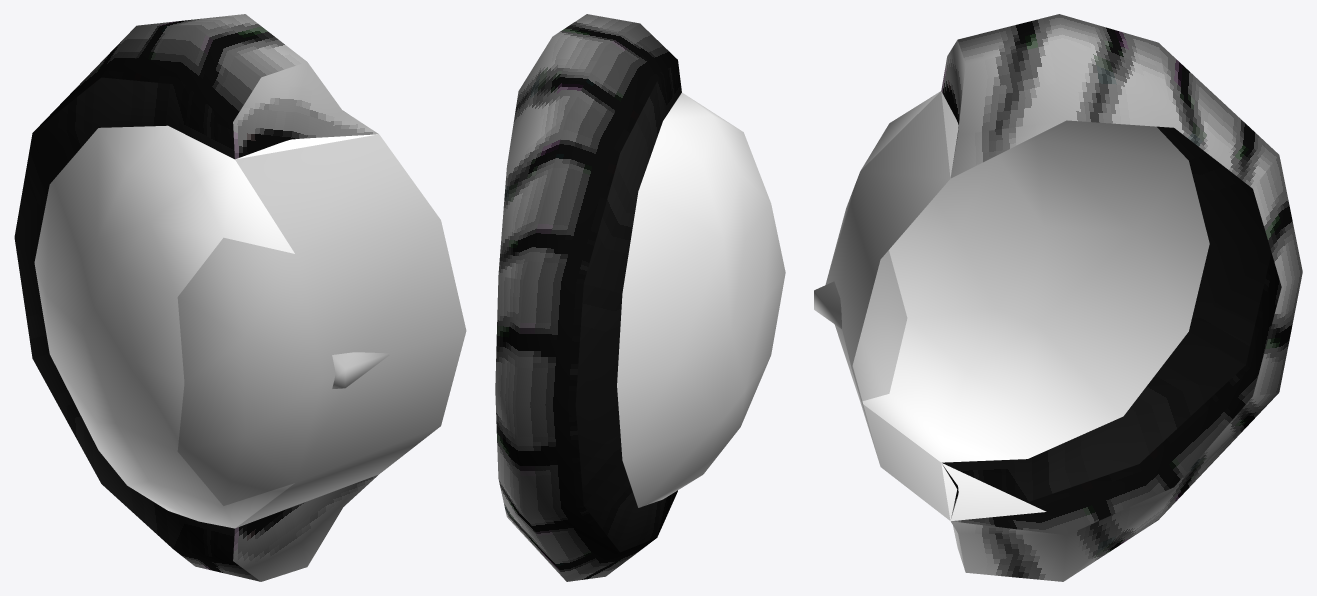
Rendered from girl07b.dae.
3 views of the same model, side by side, from view 1: azimuth 30°, elevation 25°; view 2: azimuth 150°, elevation 25°; view 3: azimuth 270°, elevation 25° (orthographic). The views are drawn at different scales.
Parts seen in each view (by area): view 1: vsn_mesh_1_, vsn_mesh_0_, vsn_mesh_2_; view 2: vsn_mesh_1_; view 3: vsn_mesh_1_, vsn_mesh_0_, vsn_mesh_2_.
Boxes of the visible parts, x1,y1,x2,y2 form: vsn_mesh_1_: (14, 14, 378, 581); vsn_mesh_0_: (235, 134, 466, 528); vsn_mesh_2_: (177, 237, 323, 505); vsn_mesh_1_: (495, 14, 785, 581); vsn_mesh_1_: (861, 14, 1302, 581); vsn_mesh_0_: (814, 91, 950, 520); vsn_mesh_2_: (825, 174, 907, 401).
Bounding box in the file's own units: 15.5 × 27.73 × 22.56.
